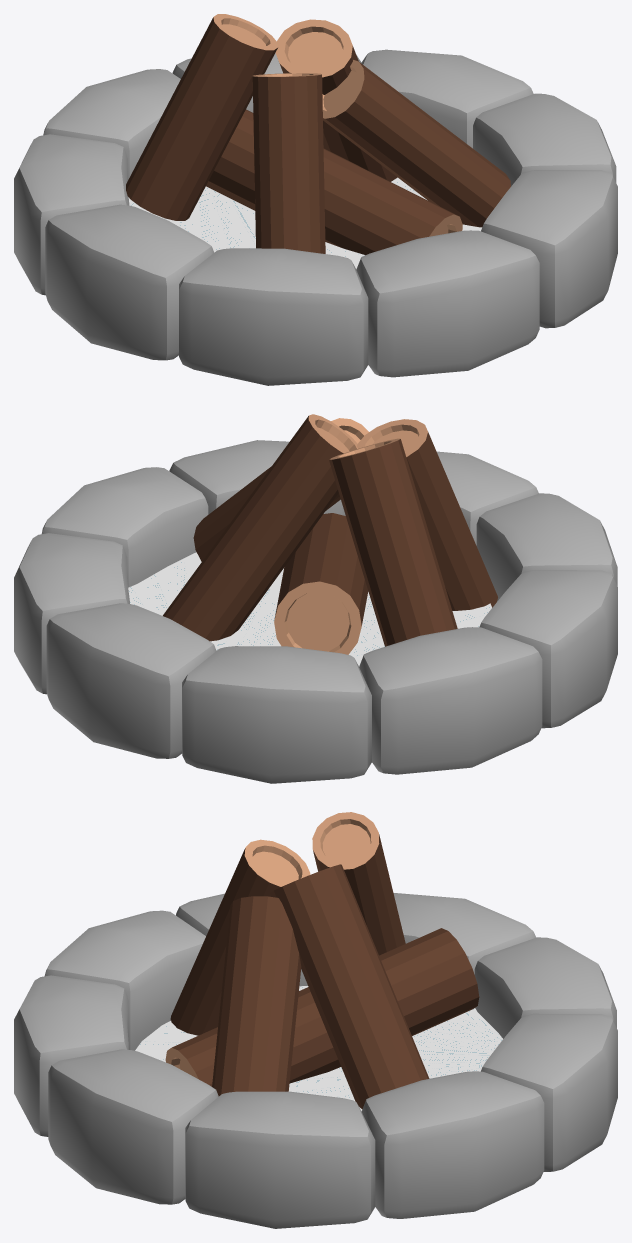
Rendered from bonfire.fbx.
The picture shows the model from 3 angles, top to bottom: view 1: azimuth 30°, elevation 25°; view 2: azimuth 150°, elevation 25°; view 3: azimuth 270°, elevation 25°; orthographic projection.
Visible parts, largest first — view 1: Stones, Wood.002, Wood.004, Wood.003, Wood, Wood.001, Circle; view 2: Stones, Wood.001, Wood.002, Wood, Wood.003, Circle, Wood.004; view 3: Stones, Wood.001, Wood.004, Wood, Wood.003, Wood.002, Circle.
Boxes of the visible parts, <box> form: Stones: <box>14,49,617,385</box>; Wood.002: <box>126,14,278,220</box>; Wood.004: <box>322,60,510,227</box>; Wood.003: <box>252,73,325,253</box>; Wood: <box>206,109,462,255</box>; Wood.001: <box>275,19,397,181</box>; Circle: <box>128,177,481,269</box>; Stones: <box>14,440,617,783</box>; Wood.001: <box>163,414,357,641</box>; Wood.002: <box>329,438,457,646</box>; Wood: <box>274,513,368,654</box>; Wood.003: <box>357,419,497,610</box>; Circle: <box>128,552,491,666</box>; Wood.004: <box>193,418,368,561</box>; Stones: <box>14,893,617,1228</box>; Wood.001: <box>270,864,429,1109</box>; Wood.004: <box>212,896,301,1096</box>; Wood: <box>165,928,479,1086</box>; Wood.003: <box>170,839,310,1035</box>; Wood.002: <box>312,812,405,955</box>; Circle: <box>135,986,502,1111</box>.
Bounding box in the file's own units: 1.42 × 1.42 × 0.6579.
Materials: 3 (3 with a texture image).
